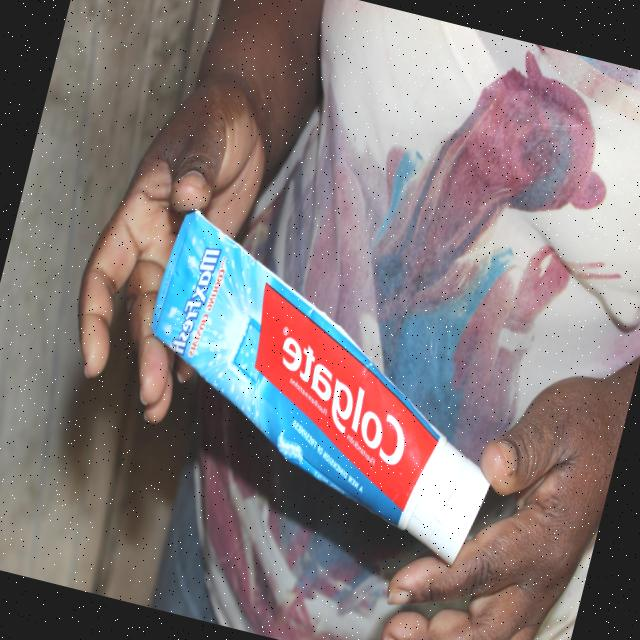Toothpaste: (95, 198, 552, 582)
